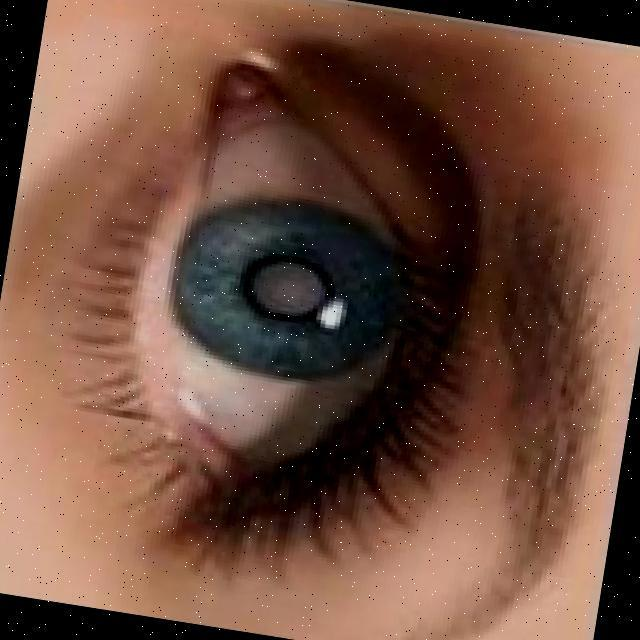Cataract: (174, 170, 416, 392)
